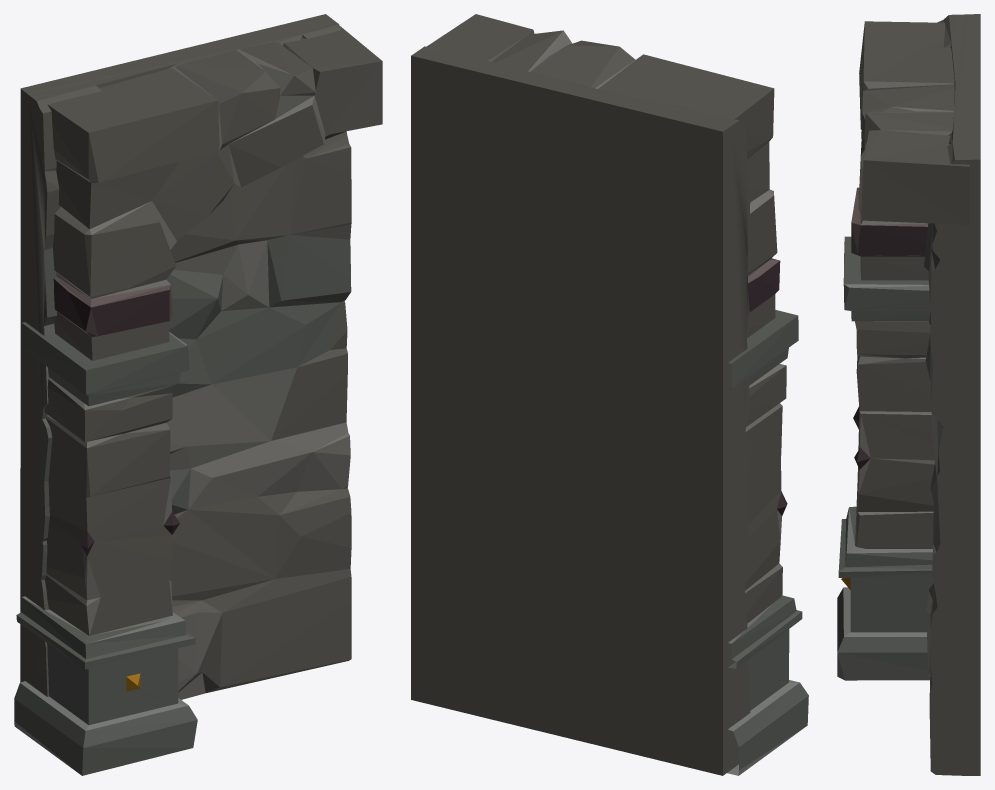
The model's file is MDungeons_Wals_Arched_03_Alt_Half.FBX.
3 renders of one model, left to right at view 1: azimuth 30°, elevation 25°; view 2: azimuth 150°, elevation 25°; view 3: azimuth 270°, elevation 25°, orthographic. The views are drawn at different scales.
Parts seen in each view (by area): view 1: MDungeons_Wals_Arched_03_Half_Alt_LOD0; view 2: MDungeons_Wals_Arched_03_Half_Alt_LOD0; view 3: MDungeons_Wals_Arched_03_Half_Alt_LOD0.
Boxes of the visible parts, x1,y1,x2,y2 form: MDungeons_Wals_Arched_03_Half_Alt_LOD0: (14,14,382,775); MDungeons_Wals_Arched_03_Half_Alt_LOD0: (411,14,808,775); MDungeons_Wals_Arched_03_Half_Alt_LOD0: (837,14,980,775).
Size of what is drawn, in the model's own units: 3.17 by 6.01 by 1.26.
